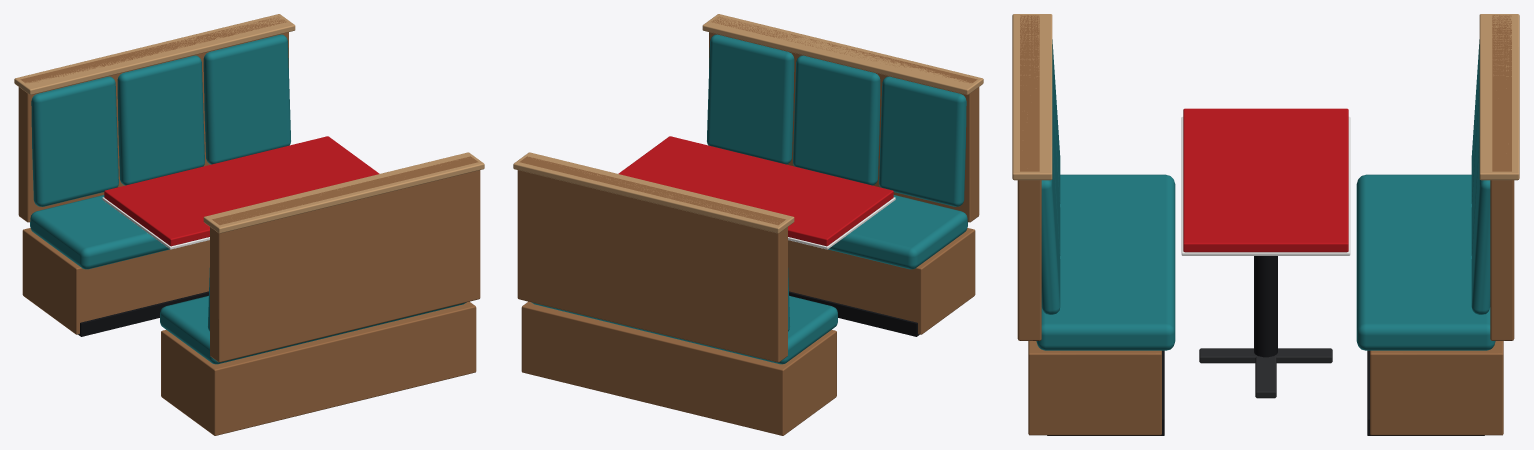
Rendered from booth-4.glb.
3 renders of one model, left to right at view 1: azimuth 30°, elevation 25°; view 2: azimuth 150°, elevation 25°; view 3: azimuth 270°, elevation 25°, orthographic. The views are drawn at different scales.
Visible parts, largest first — view 1: BODY; view 2: BODY; view 3: BODY.
Boxes of the visible parts, <box> form: BODY: <box>14,14,484,435</box>; BODY: <box>513,14,983,435</box>; BODY: <box>1012,14,1519,435</box>.
Size of the model in its own units: 1.42 by 1.1 by 1.9.
